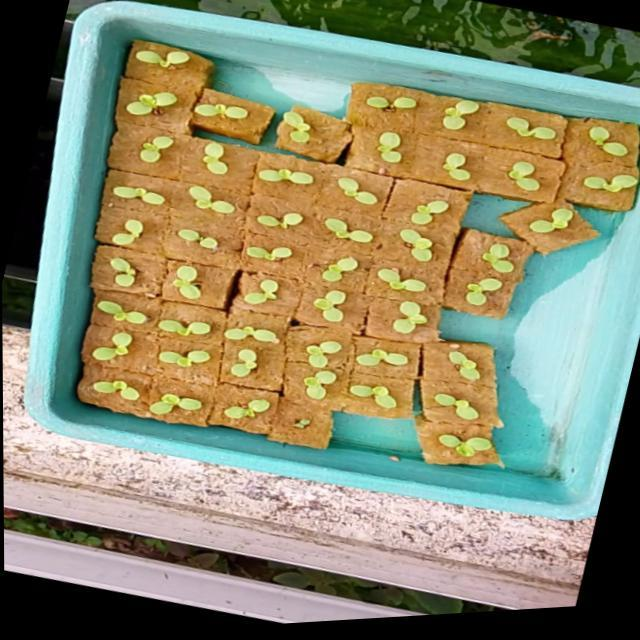Baby: (549, 124, 613, 161), (487, 205, 548, 243), (88, 130, 157, 161), (476, 118, 537, 147), (128, 227, 191, 255), (317, 345, 372, 377), (366, 229, 419, 262), (533, 161, 591, 189), (47, 255, 92, 291), (344, 264, 396, 295), (199, 273, 246, 307), (44, 298, 105, 324), (451, 239, 491, 275), (402, 437, 458, 461), (150, 183, 197, 211), (399, 395, 444, 423), (43, 332, 84, 362), (290, 217, 338, 242), (356, 301, 391, 335), (101, 396, 155, 418), (126, 264, 159, 300), (411, 99, 449, 130), (274, 289, 308, 322), (378, 197, 418, 225), (43, 382, 93, 404), (266, 341, 303, 370), (263, 370, 297, 401), (181, 327, 239, 345), (311, 392, 358, 414), (178, 402, 227, 423), (218, 208, 269, 228), (72, 182, 125, 201), (413, 352, 445, 383), (475, 161, 507, 192), (113, 319, 168, 337), (286, 257, 323, 282), (68, 217, 103, 243), (186, 350, 215, 380), (165, 139, 192, 171), (433, 285, 469, 308), (208, 244, 256, 261), (344, 130, 370, 161), (411, 152, 438, 180), (306, 177, 336, 202), (113, 352, 154, 369)
